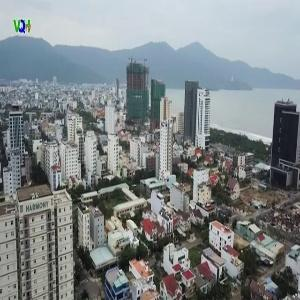drone: (103, 95, 157, 149)
